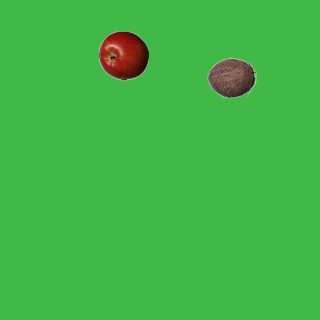Apple Braeburn: (98, 30, 148, 80)
Cocos: (206, 52, 256, 102)
